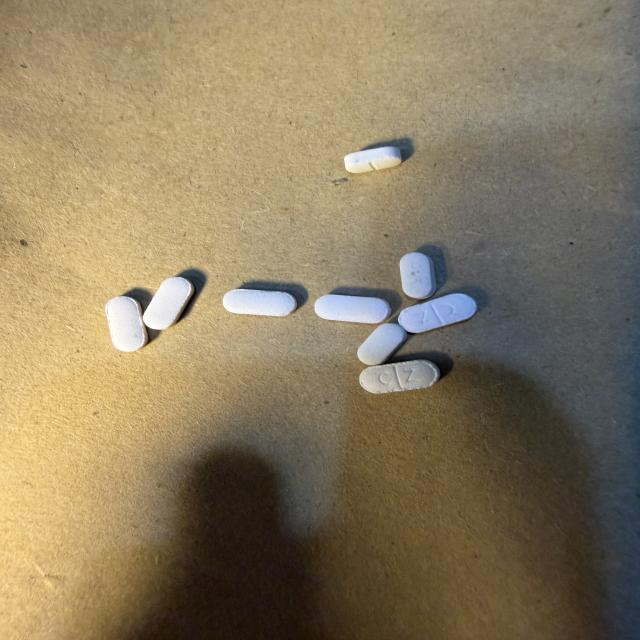pill: (398, 294, 477, 333), (143, 277, 194, 329), (360, 360, 439, 393), (106, 297, 147, 351), (315, 295, 391, 323), (223, 289, 296, 316), (358, 324, 406, 365), (400, 253, 436, 298), (345, 147, 402, 173)
